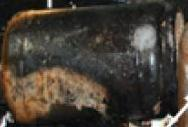cylinder: (1, 1, 188, 127)
